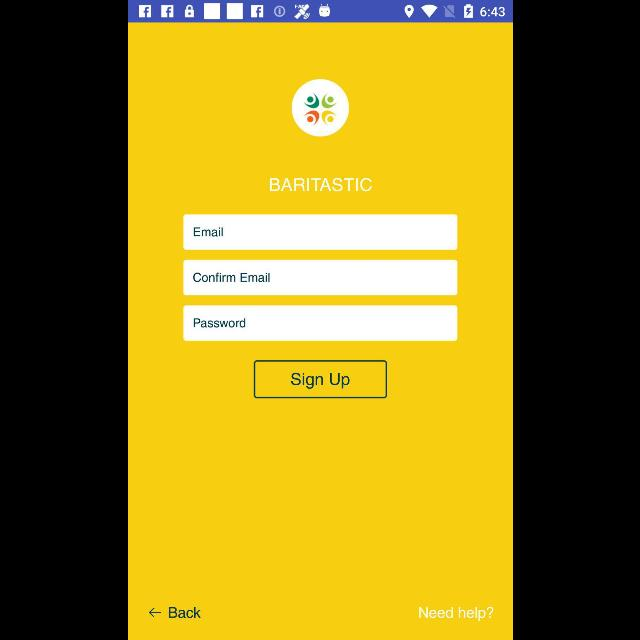icon: (148, 607, 160, 617)
image: (291, 79, 349, 137)
input: (183, 305, 457, 341), (183, 260, 457, 296), (183, 214, 457, 250)
text: (268, 178, 372, 192), (418, 606, 494, 622), (192, 272, 270, 282), (193, 318, 245, 328), (168, 608, 200, 618), (194, 228, 222, 236)
textbutton: (253, 360, 387, 398)
uppertaskbar: (128, 1, 512, 23)
